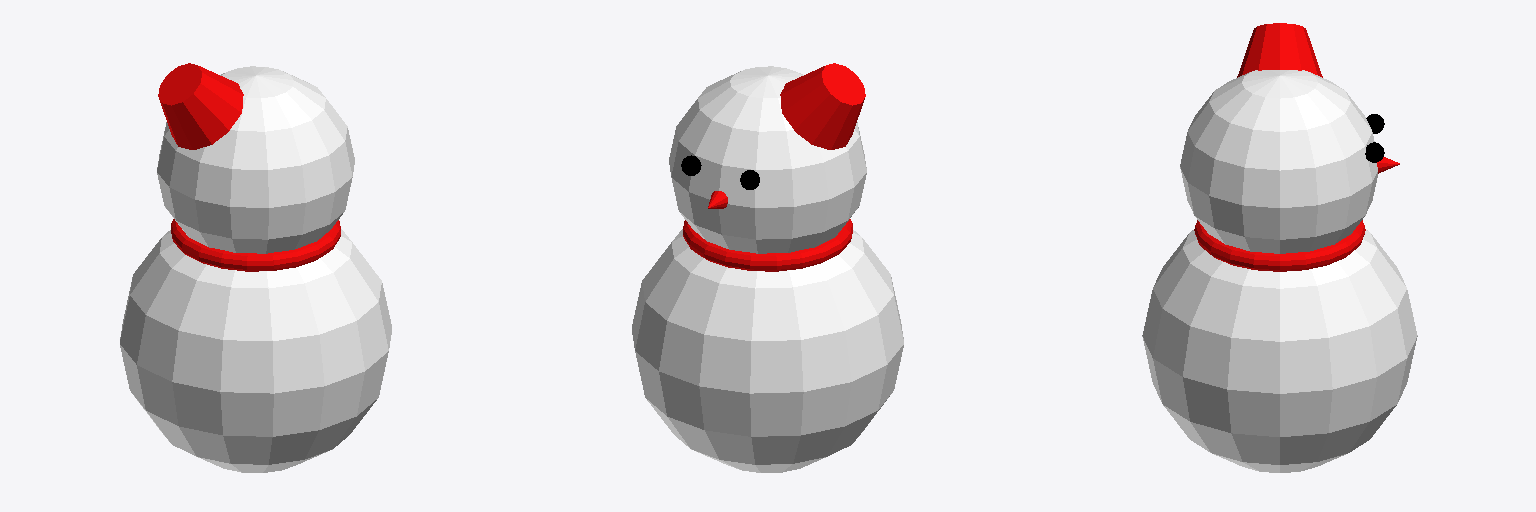
The model's file is snowman.obj.
The picture shows the model from 3 angles: view 1: azimuth 30°, elevation 25°; view 2: azimuth 150°, elevation 25°; view 3: azimuth 270°, elevation 25°; orthographic projection.
Visible parts, largest first — view 1: body003, head003, Cone005, Torus004; view 2: body003, head003, Cone005, Torus004; view 3: body003, head003, Torus004, Cone005.
Part boxes in pixels (x1,y1,x2,y2): body003: (120, 229, 391, 472); head003: (157, 66, 354, 253); Cone005: (158, 63, 243, 149); Torus004: (171, 219, 340, 271); body003: (632, 229, 903, 472); head003: (669, 66, 866, 253); Cone005: (780, 63, 865, 149); Torus004: (683, 219, 852, 271); body003: (1142, 230, 1417, 472); head003: (1180, 70, 1377, 253); Torus004: (1194, 220, 1365, 271); Cone005: (1237, 23, 1322, 77).
Size of the model in its own units: 4.89 by 8.02 by 4.89.